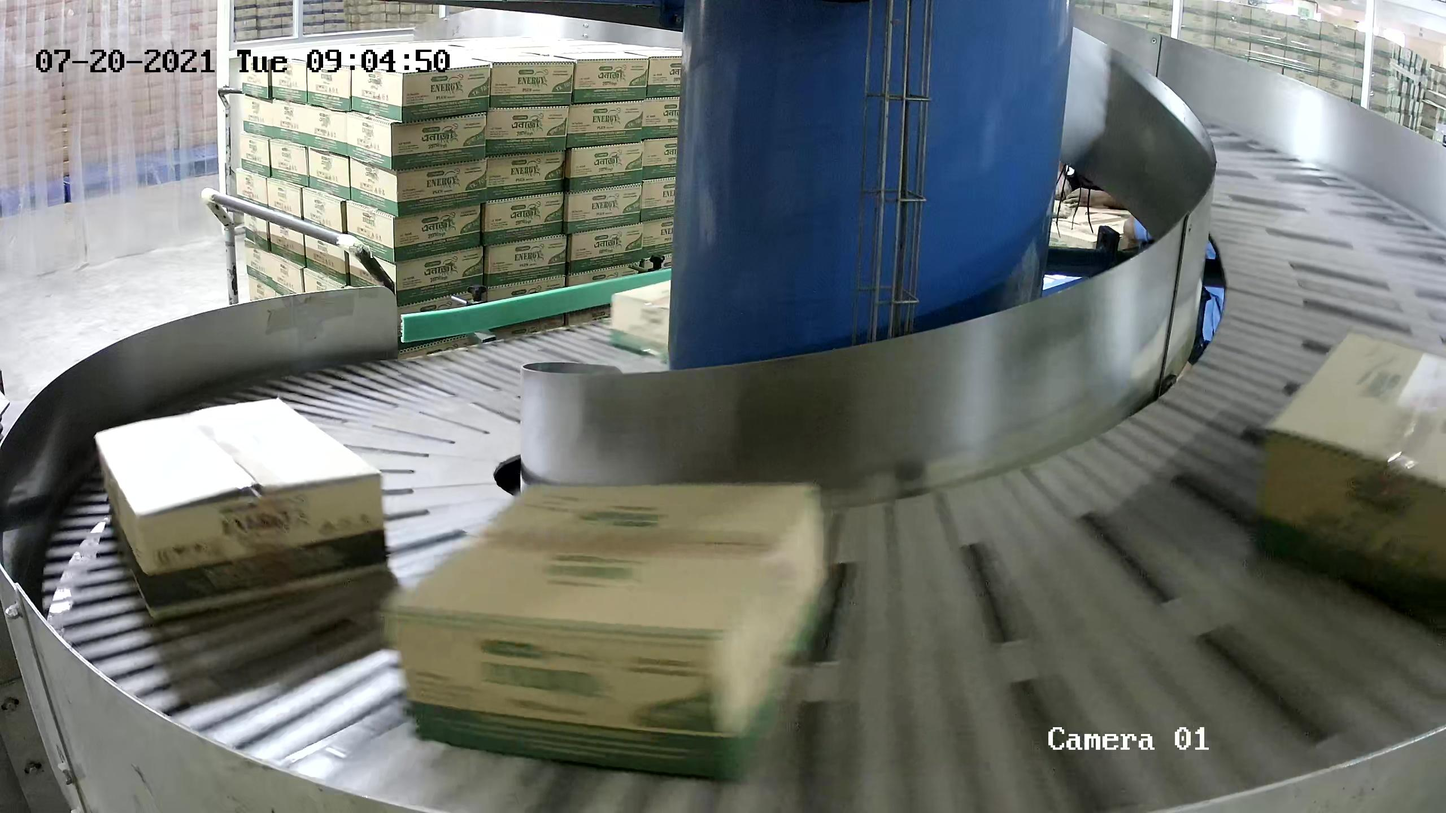Box: (388, 476, 836, 785), (91, 394, 391, 623), (1254, 328, 1446, 620), (608, 279, 672, 361)
